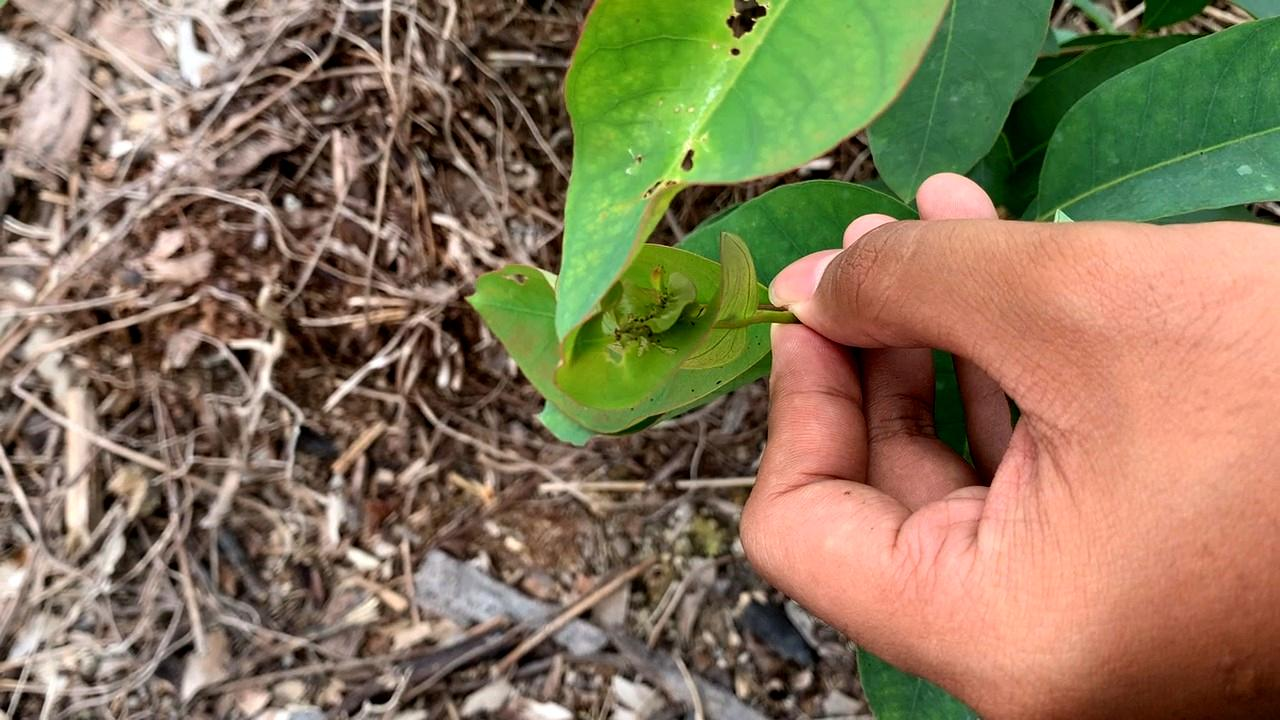Leaf Roller - Leaf: (501, 230, 780, 445)
